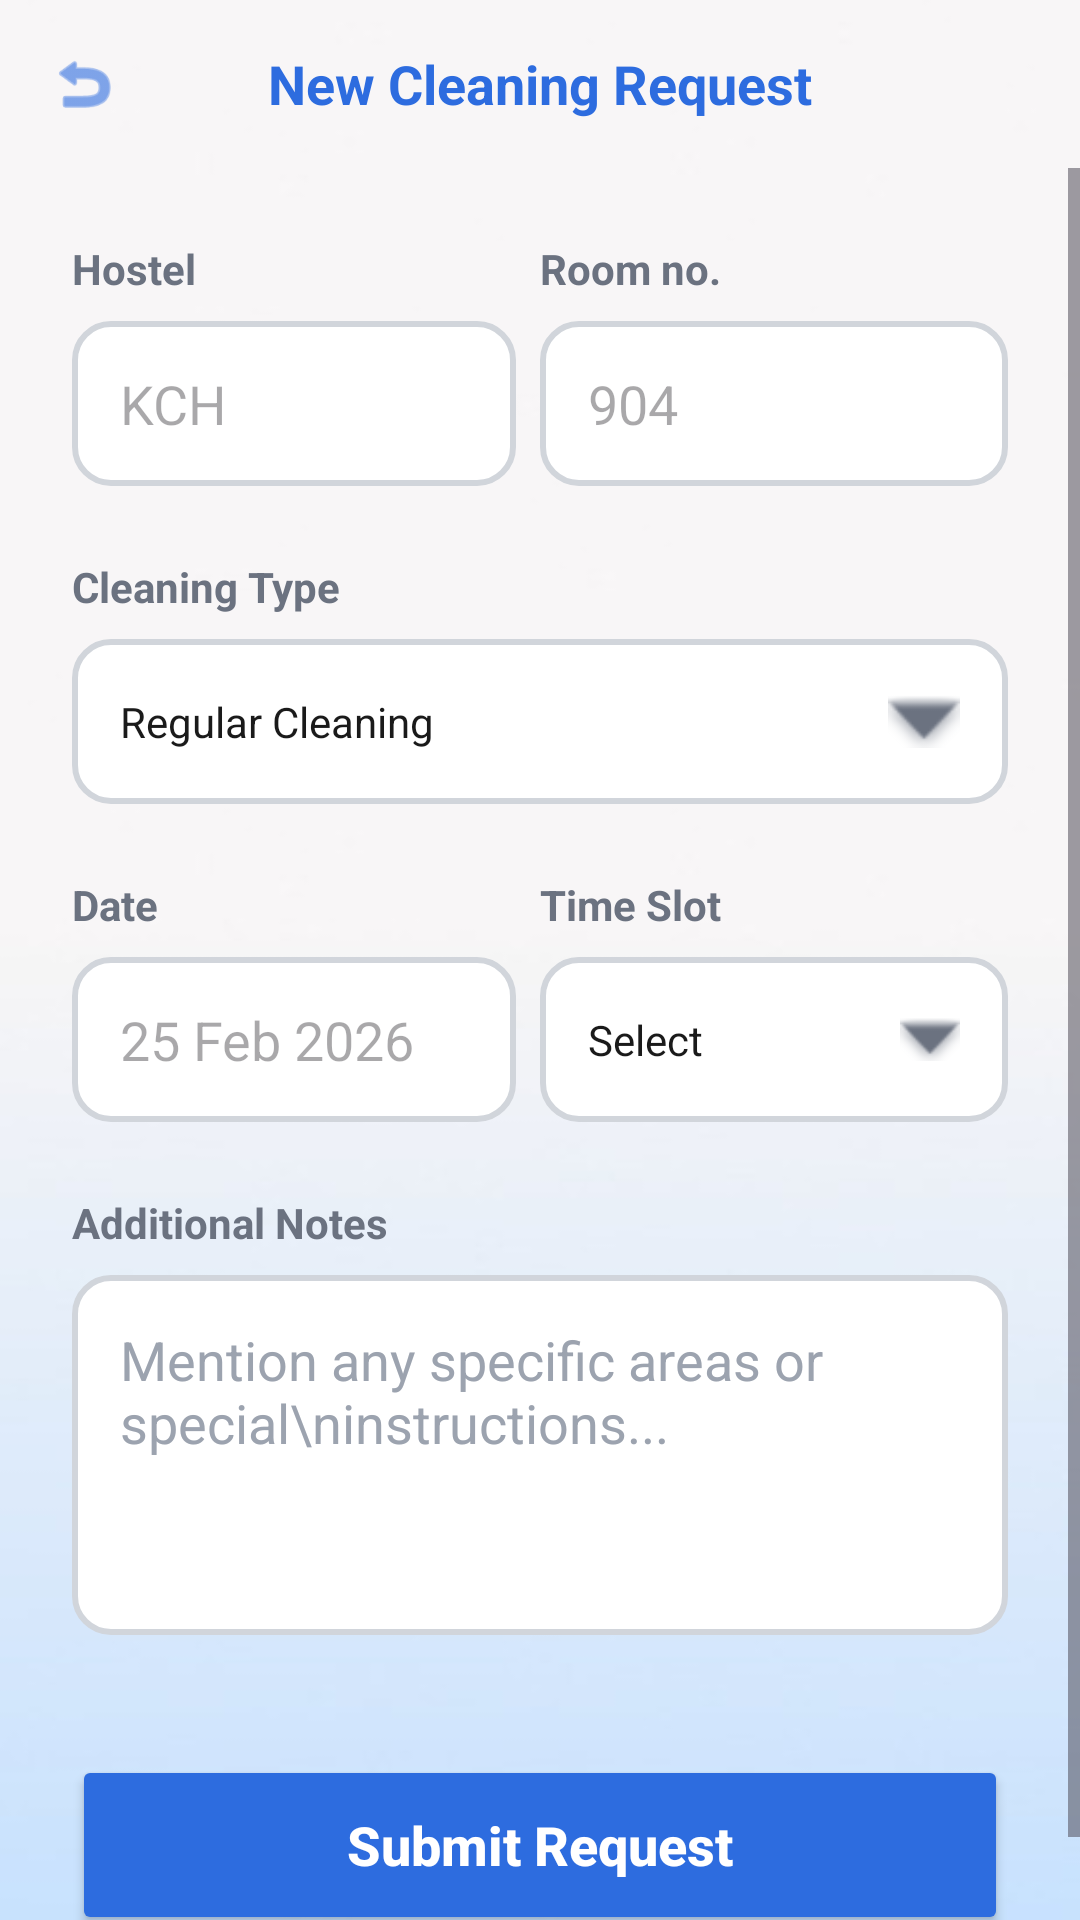

Where to tap for icons on this 1080px x 1920px app screen, as (x=x, y=y):
arrow down float: (x=924, y=720), (x=930, y=1038)
revert: (x=85, y=84)
